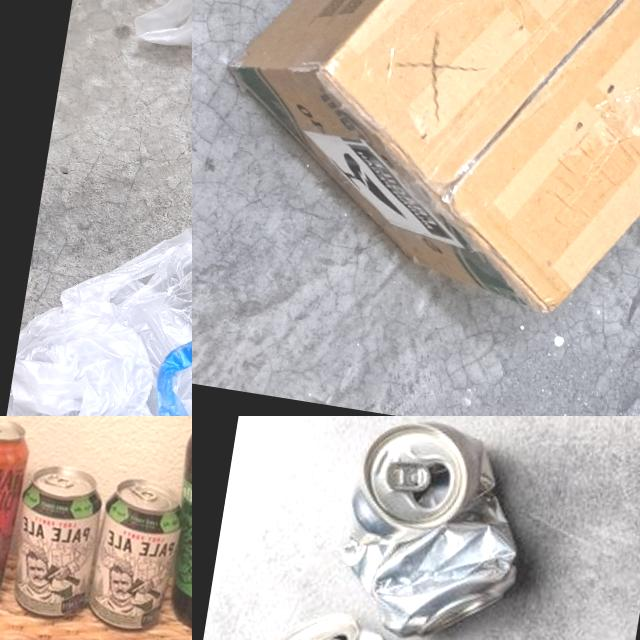aba de lata: (382, 459, 432, 497), (126, 482, 158, 502), (44, 472, 76, 488)
lata: (328, 416, 541, 640), (84, 472, 188, 635), (4, 461, 108, 624), (0, 416, 37, 614)
papelão: (198, 0, 640, 334)
sacola plástica: (0, 203, 192, 416), (114, 0, 192, 183)
